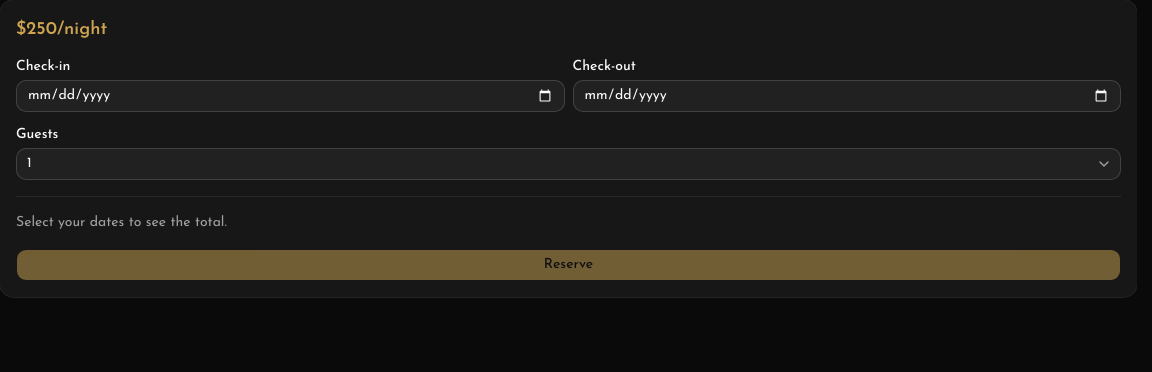
CabinBookingPanel › enables Reserve once the dates are available
Type "2026-08-15" into the date field labelled "Check-in" at (290, 96), box [16,80,564,112]
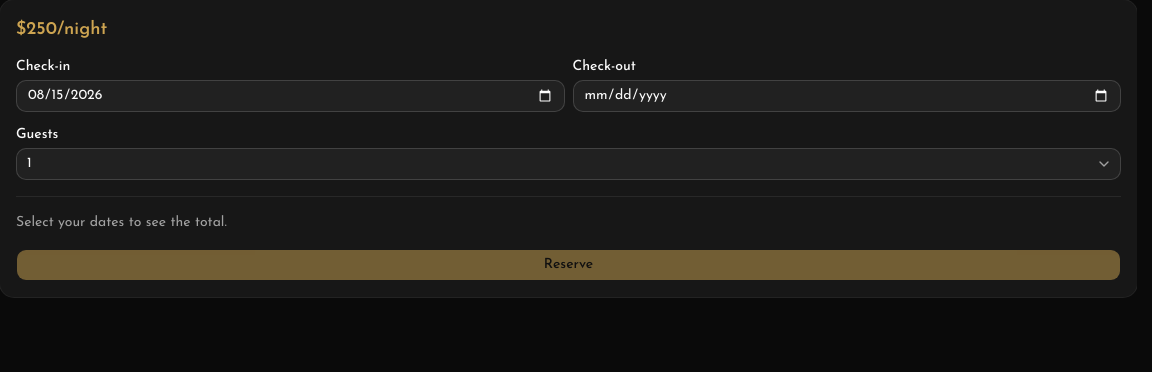
Type "2026-08-18" into the date field labelled "Check-out" at (847, 96), box [572,80,1121,112]
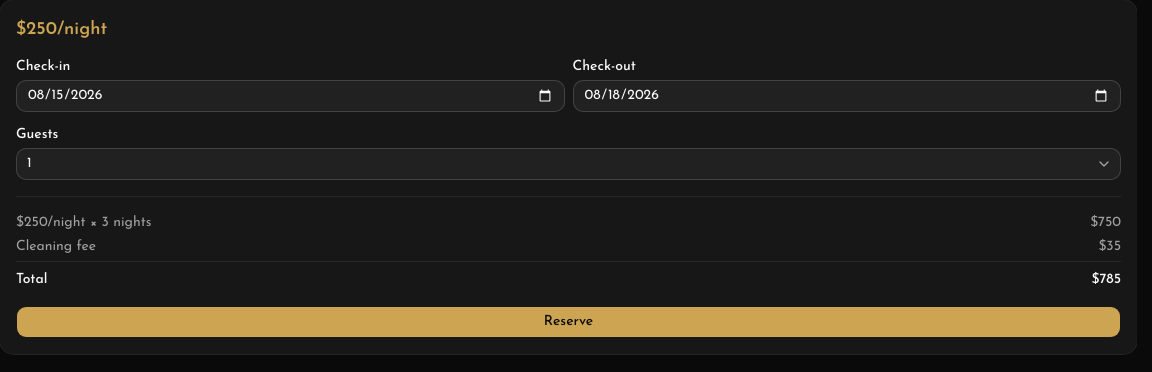
Result: the button "Reserve" is enabled at [16,306,1121,338]
